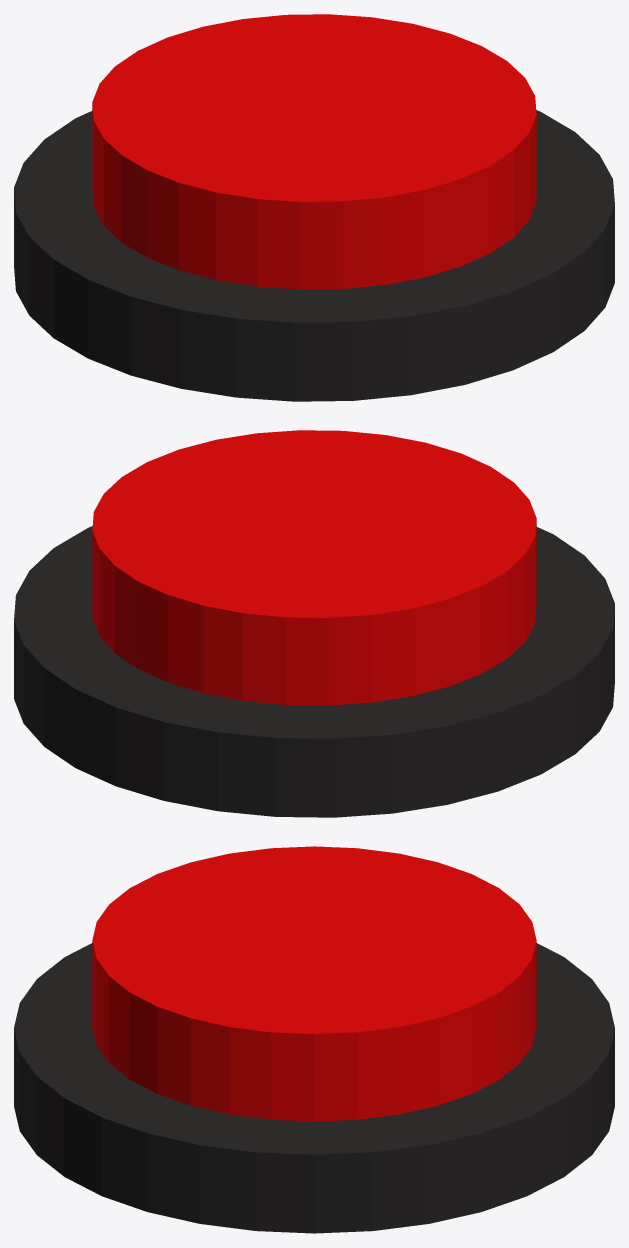
Rendered from Button.fbx.
3 views of the same model, one above another, from view 1: azimuth 30°, elevation 25°; view 2: azimuth 150°, elevation 25°; view 3: azimuth 270°, elevation 25° (orthographic).
Parts seen in each view (by area): view 1: Cylinder.001, Cylinder; view 2: Cylinder.001, Cylinder; view 3: Cylinder.001, Cylinder.
Boxes of the visible parts, x1=… form: Cylinder.001: x1=92, y1=14, x2=536, y2=289; Cylinder: x1=14, y1=110, x2=614, y2=401; Cylinder.001: x1=92, y1=430, x2=536, y2=705; Cylinder: x1=14, y1=526, x2=614, y2=817; Cylinder.001: x1=92, y1=846, x2=536, y2=1121; Cylinder: x1=14, y1=943, x2=614, y2=1233.
Size of the model in its own units: 200 by 61.04 by 200.
